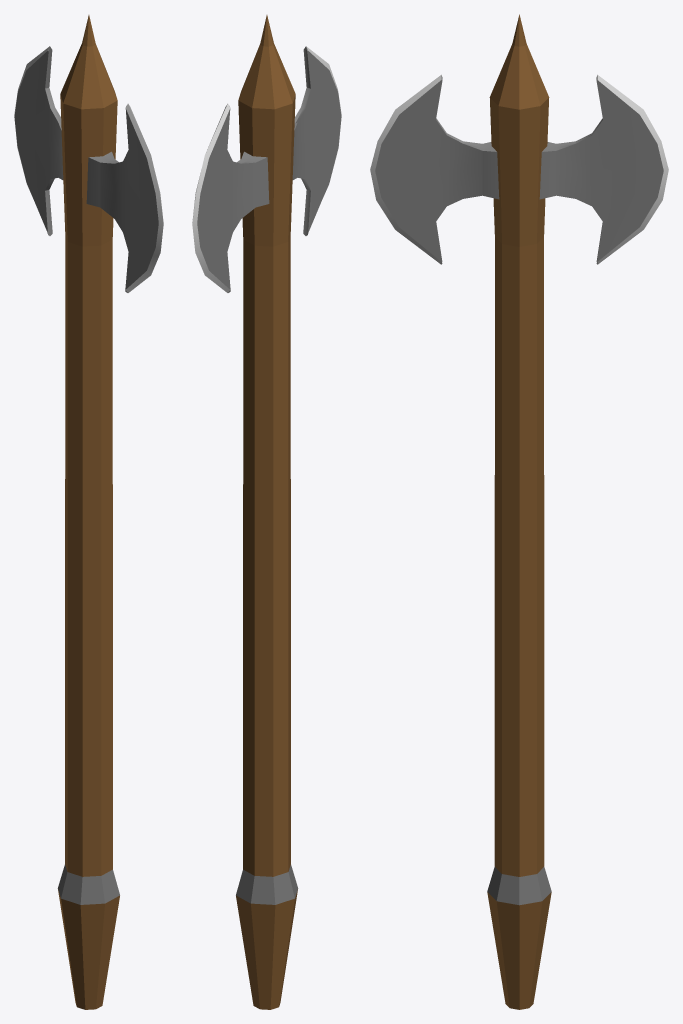
Rendered from Axe3.glb.
3 views of the same model, side by side, from view 1: azimuth 30°, elevation 25°; view 2: azimuth 150°, elevation 25°; view 3: azimuth 270°, elevation 25° (orthographic).
Visible parts, largest first — view 1: weapon_generator; view 2: weapon_generator; view 3: weapon_generator.
Part boxes in pixels (left/top/right/bottom): weapon_generator: left=14, top=15, right=163, bottom=1009; weapon_generator: left=192, top=15, right=341, bottom=1009; weapon_generator: left=370, top=14, right=668, bottom=1009.
Bounding box in the file's own units: 0.0681 × 1.15 × 0.315.
